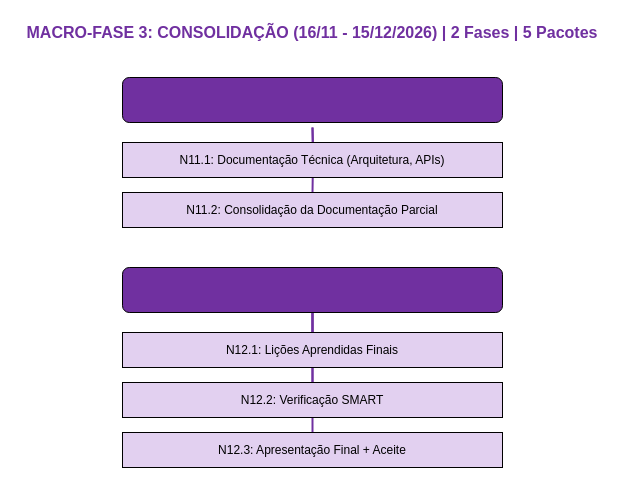
This 624x485 diagram has some shape labels left out. Each missing label, with the centre of its shape:
N11: Documentação do Projeto: the point at 312,99
N12: Encerramento: the point at 312,289
